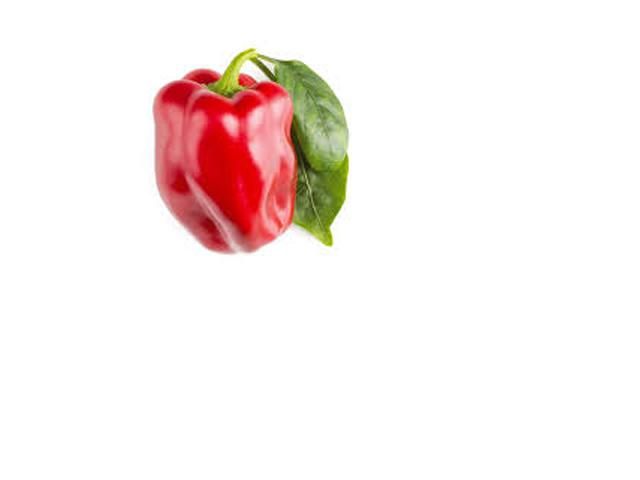bell_pepper: (134, 50, 305, 260)
